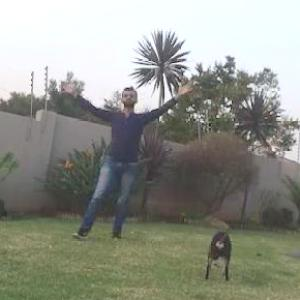takeoff: (67, 84, 186, 230)
